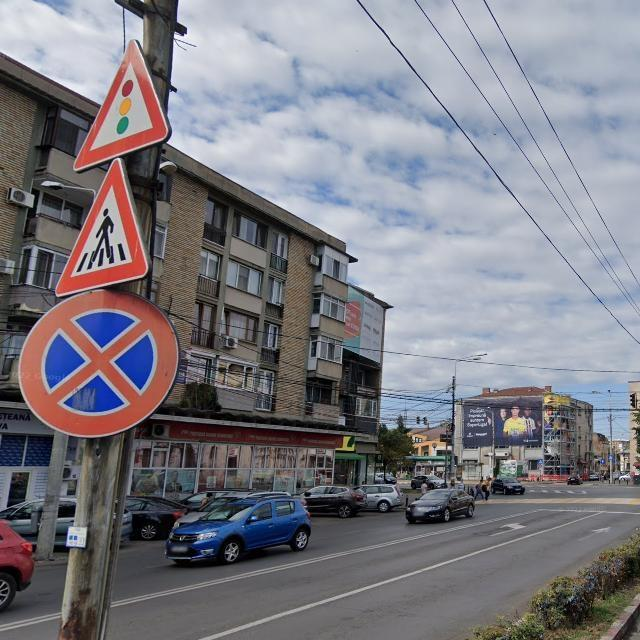forb_waiting: (15, 287, 181, 442)
warn_crosswalk: (45, 159, 157, 287)
